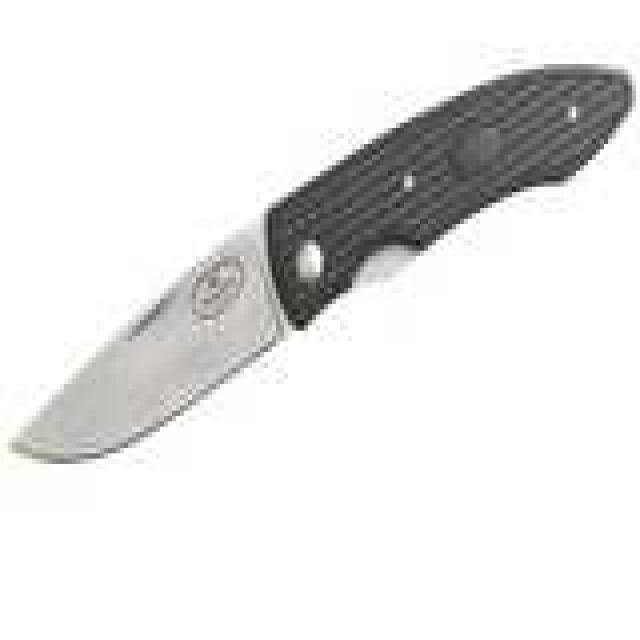Knife: (5, 65, 636, 471)
